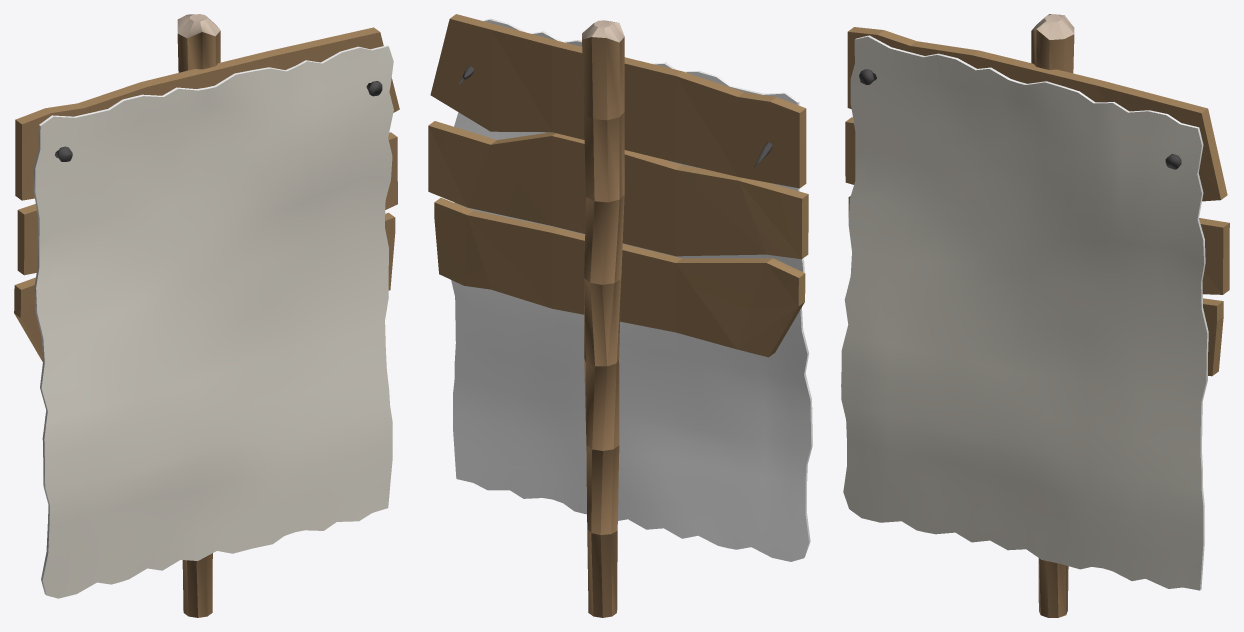
The model's file is sign-compressed.glb.
3 renders of one model, left to right at view 1: azimuth 30°, elevation 25°; view 2: azimuth 150°, elevation 25°; view 3: azimuth 330°, elevation 25°, orthographic.
Parts seen in each view (by area): view 1: post; view 2: post; view 3: post.
Boxes of the visible parts, x1,y1,x2,y2 form: post: (14, 14, 399, 617); post: (428, 14, 812, 617); post: (841, 14, 1229, 617).
Size of the model in its own units: 1.32 by 2 by 0.2507.
2 materials, 2 textured.
